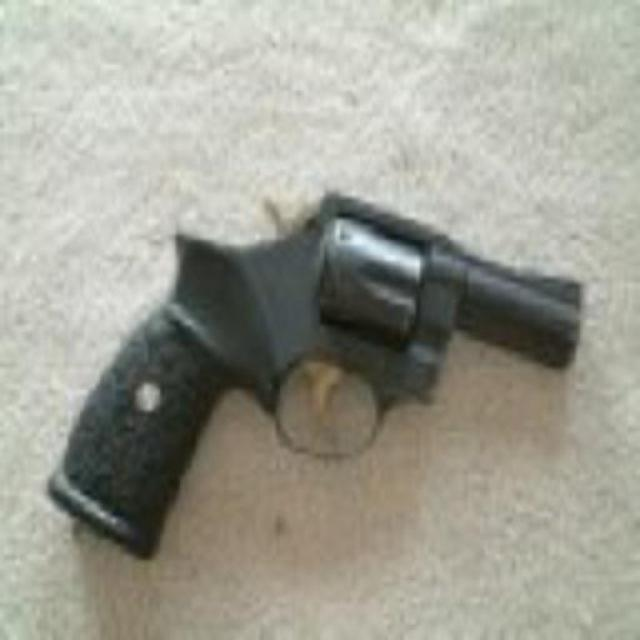pistol: (43, 186, 571, 570)
